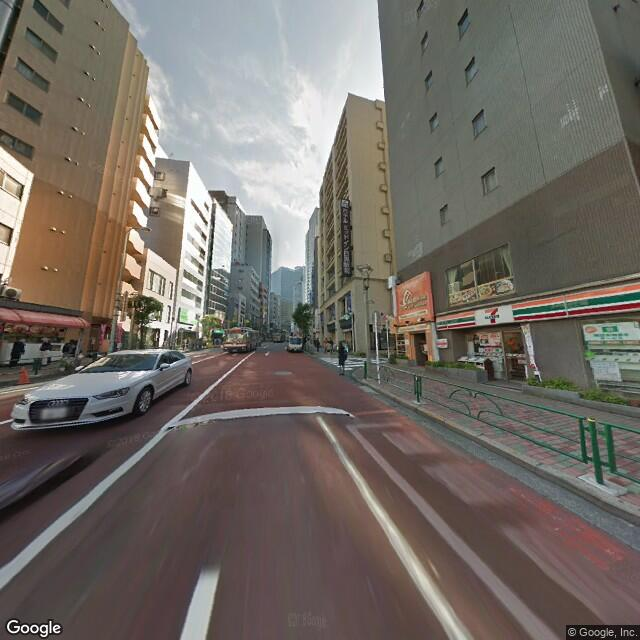7-eleven: (435, 277, 639, 336)
